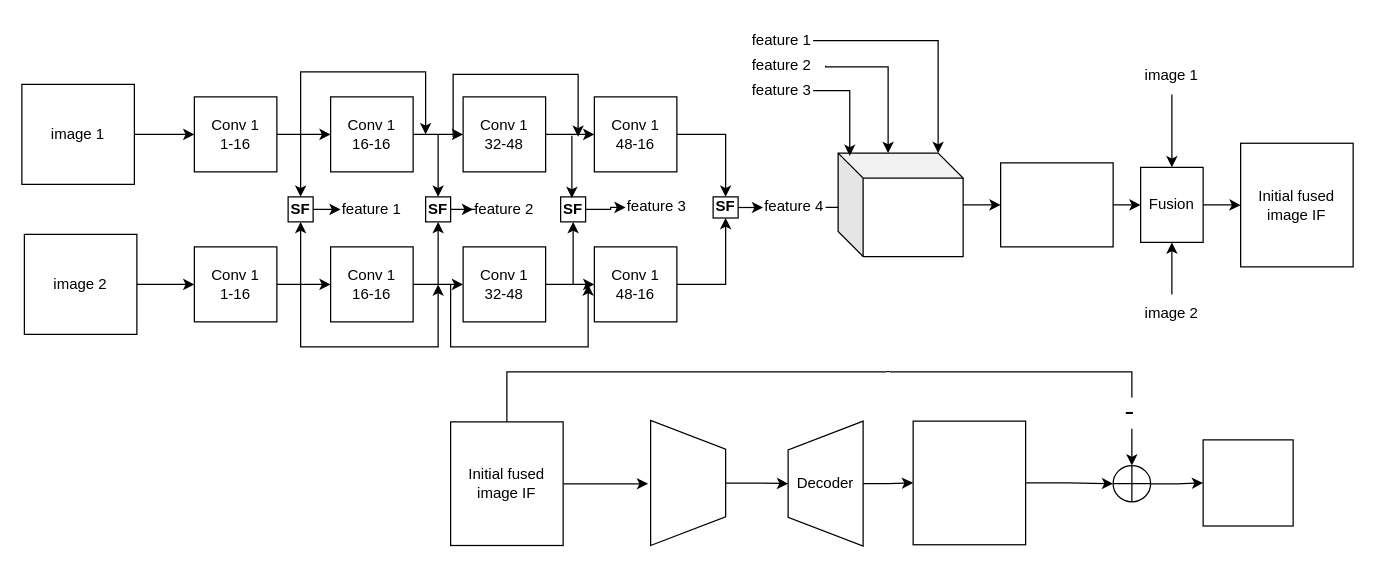
Some shapes in this 1375 by 568 pixel diagram are drawn without their labels. Each missing label, with the centre of its shape:
boundary artifacts: the point at 969,482
concatinated features: the point at 900,204
decision path: the point at 1056,204
Encoder: the point at 687,482
fused image: the point at 1247,482
